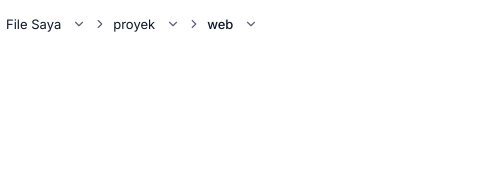
<Breadcrumb> › lazily loads sibling folders when a segment menu opens
Expected: the link "proyek" is shown, [113,16,155,32]
Step 1. Click the button with test id "crumb-menu-/proyek/web" → (251, 24), box [239,12,263,36]
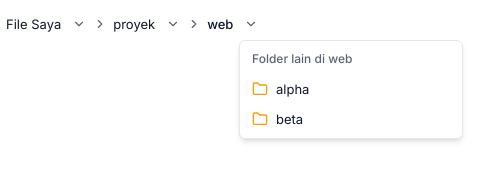
Expected: the menu item "alpha" is shown, [252,81,309,97]
